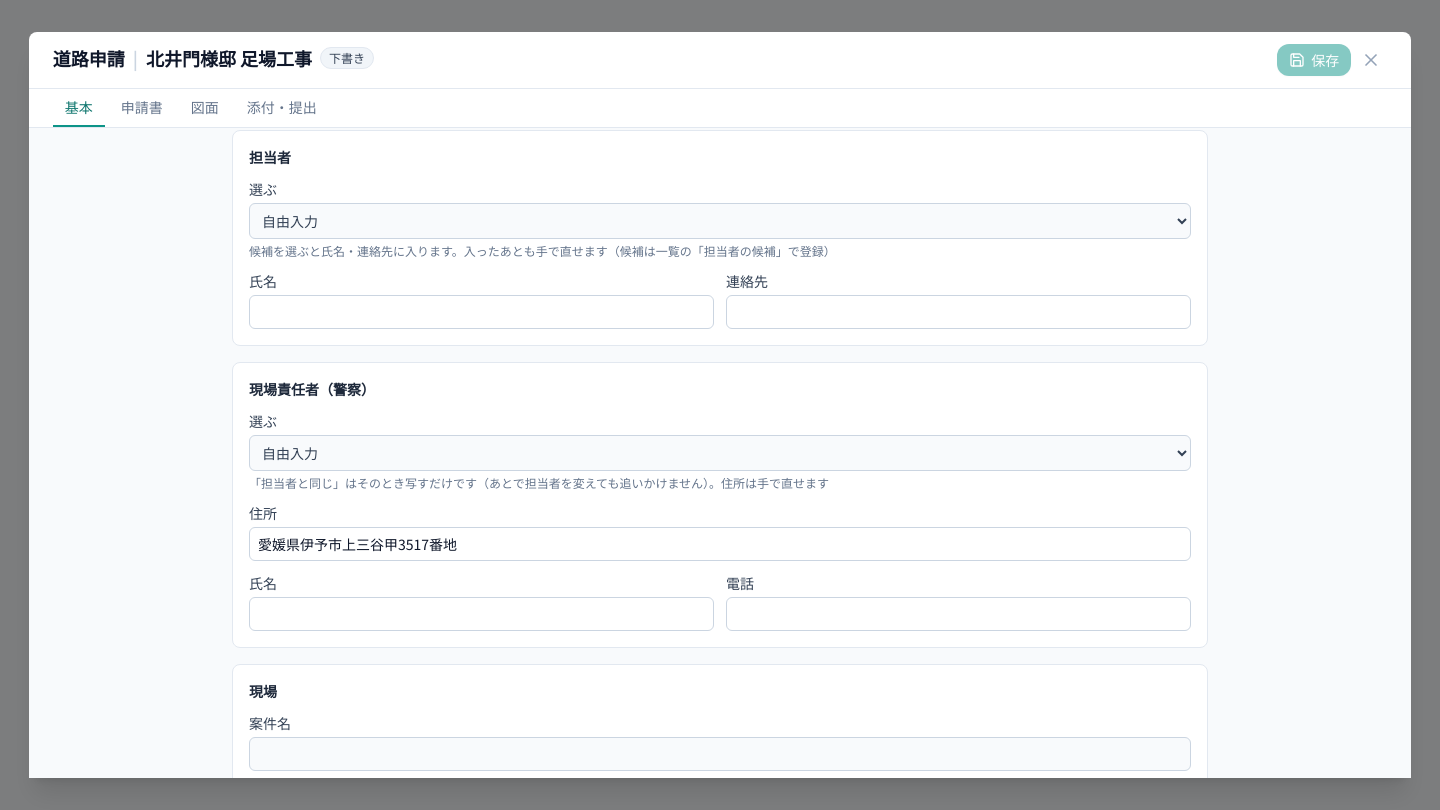
Test case: 現場責任者の「選ぶ」欄 › 候補を選ぶと氏名・電話が入る。住所はそのまま
(page scrolled)
Select "今井 公一郎" in the dropdown labelled "選ぶ 「担当者と同じ」はそのとき写すだけです（あとで担当者を変えても追いかけません）。住所は手で直せます" at {"x": 720, "y": 453}, box [249,435,1191,471]
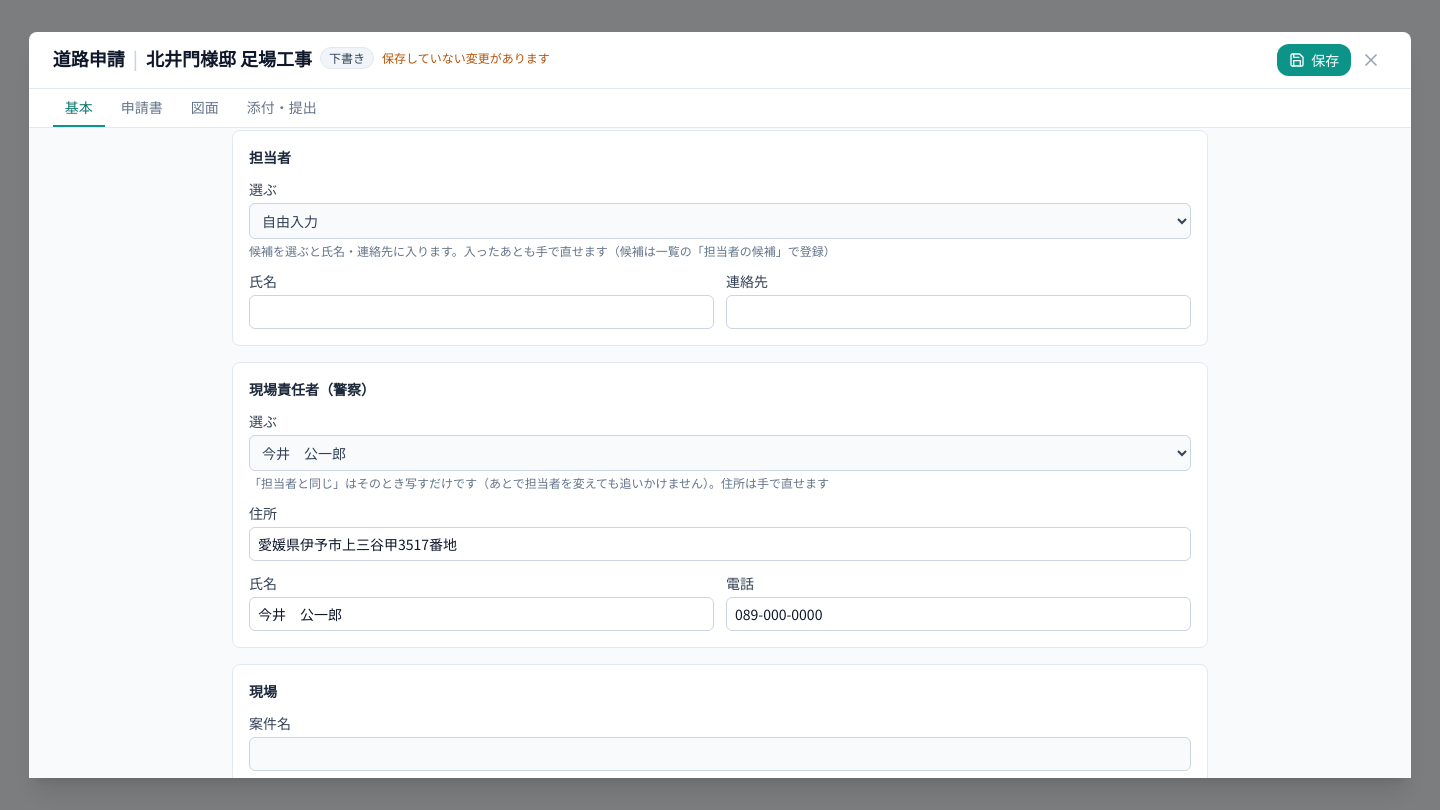
Expected: the field labelled "住所" holds "愛媛県伊予市上三谷甲3517番地", [249,527,1191,561]
Expected: the field labelled "氏名" below "電話" holds "今井　公一郎", [249,597,714,631]
Expected: the field labelled "電話" holds "089-000-0000", [726,597,1191,631]
